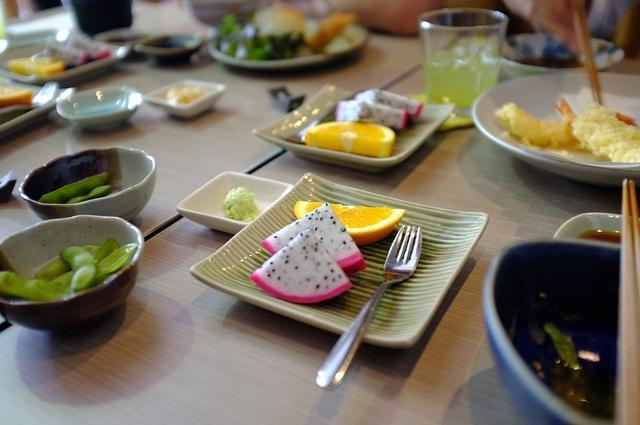orange: (294, 201, 406, 246), (305, 121, 396, 158), (6, 57, 64, 78), (0, 85, 32, 109)
pea: (0, 242, 137, 300), (31, 245, 101, 281), (38, 172, 109, 204), (66, 185, 113, 204)
